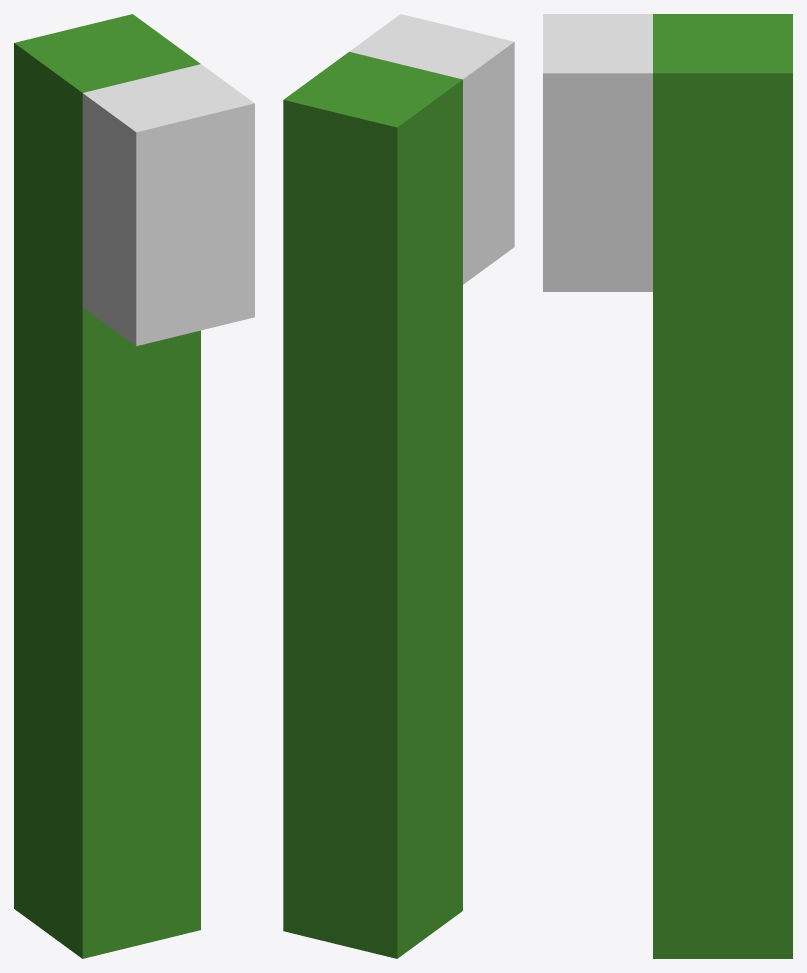
Rendered from ToothbrushGreen.fbx.
3 views of the same model, side by side, from view 1: azimuth 30°, elevation 25°; view 2: azimuth 150°, elevation 25°; view 3: azimuth 270°, elevation 25° (orthographic). The views are drawn at different scales.
Visible parts, largest first — view 1: ToothbrushGreen; view 2: ToothbrushGreen; view 3: ToothbrushGreen.
Boxes of the visible parts, x1,y1,x2,y2 form: ToothbrushGreen: (14,14,254,958); ToothbrushGreen: (283,14,514,958); ToothbrushGreen: (543,14,792,958).
Bounding box in the file's own units: 0.0349 × 0.244 × 0.0624.
